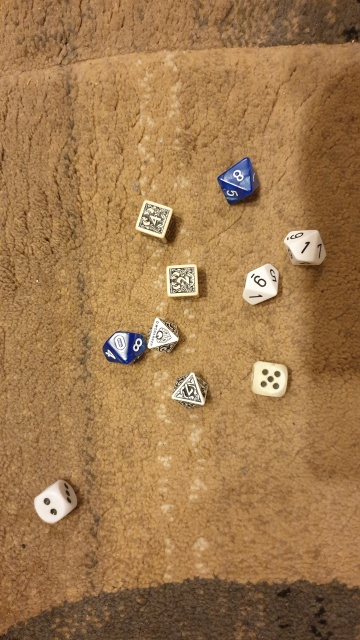d10-1: (284, 224, 328, 273)
d10-10: (101, 327, 152, 368)
d10-8: (211, 152, 266, 210)
d10-9: (237, 259, 284, 307)
d6-2: (29, 478, 84, 528)
d6-5: (244, 355, 292, 403)
d6p-2: (167, 266, 203, 300)
d6p-4: (131, 197, 177, 244)
d8p-7: (166, 370, 213, 412)
d8p-8: (142, 313, 182, 358)
